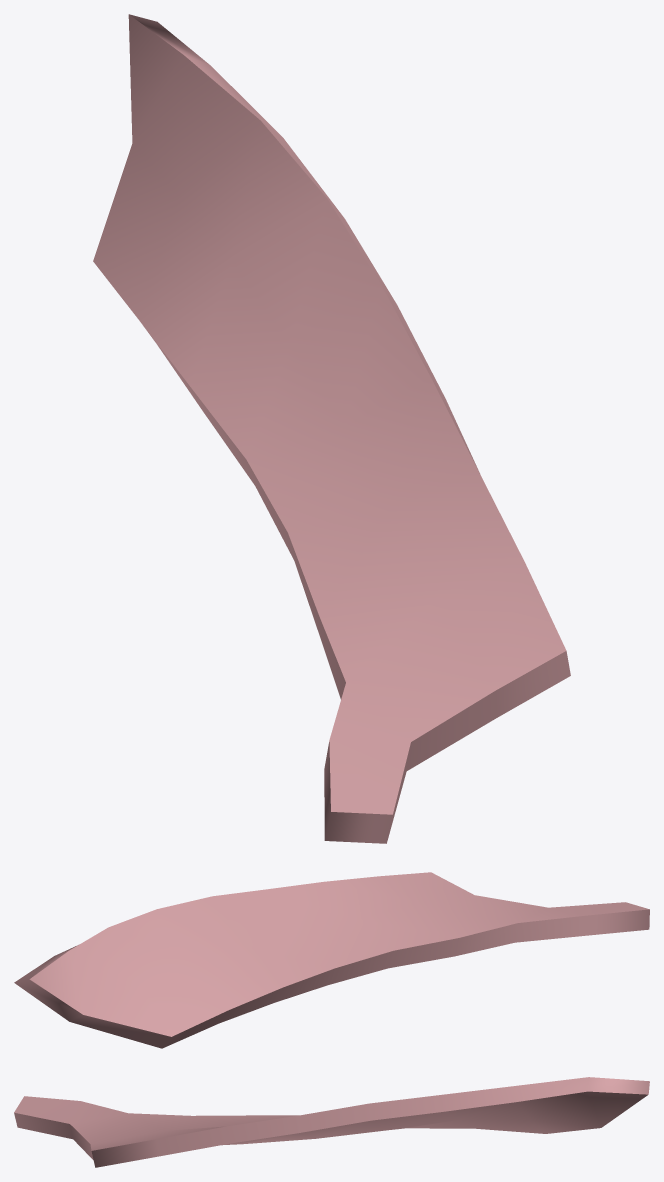
3 renders of one model, top to bottom at view 1: azimuth 30°, elevation 25°; view 2: azimuth 150°, elevation 25°; view 3: azimuth 270°, elevation 25°, orthographic. The views are drawn at different scales.
Parts seen in each view (by area): view 1: ZA_9a50bca64e181144; view 2: ZA_9a50bca64e181144; view 3: ZA_9a50bca64e181144.
Boxes of the visible parts, bbox=[...] form: ZA_9a50bca64e181144: bbox=[93, 14, 570, 843]; ZA_9a50bca64e181144: bbox=[14, 872, 649, 1048]; ZA_9a50bca64e181144: bbox=[14, 1077, 649, 1167].
Bounding box in the file's own units: 0.0447 × 0.0265 × 0.1086.
